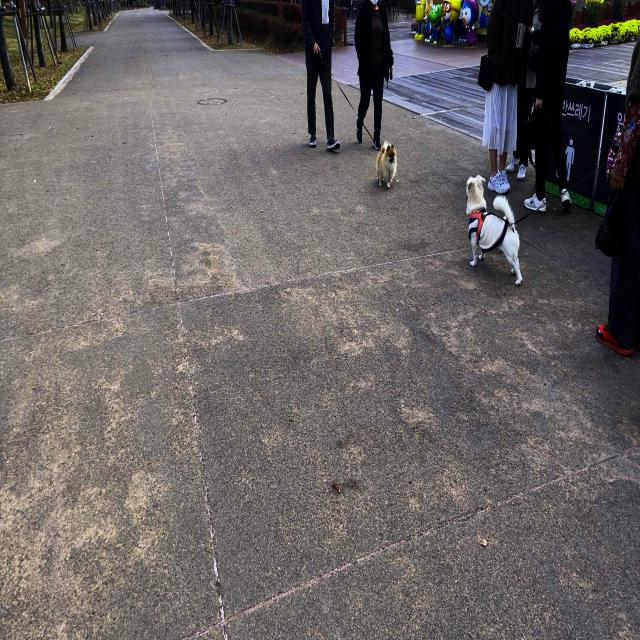Leashed_Dog: (465, 129, 635, 289), (324, 60, 398, 189)
